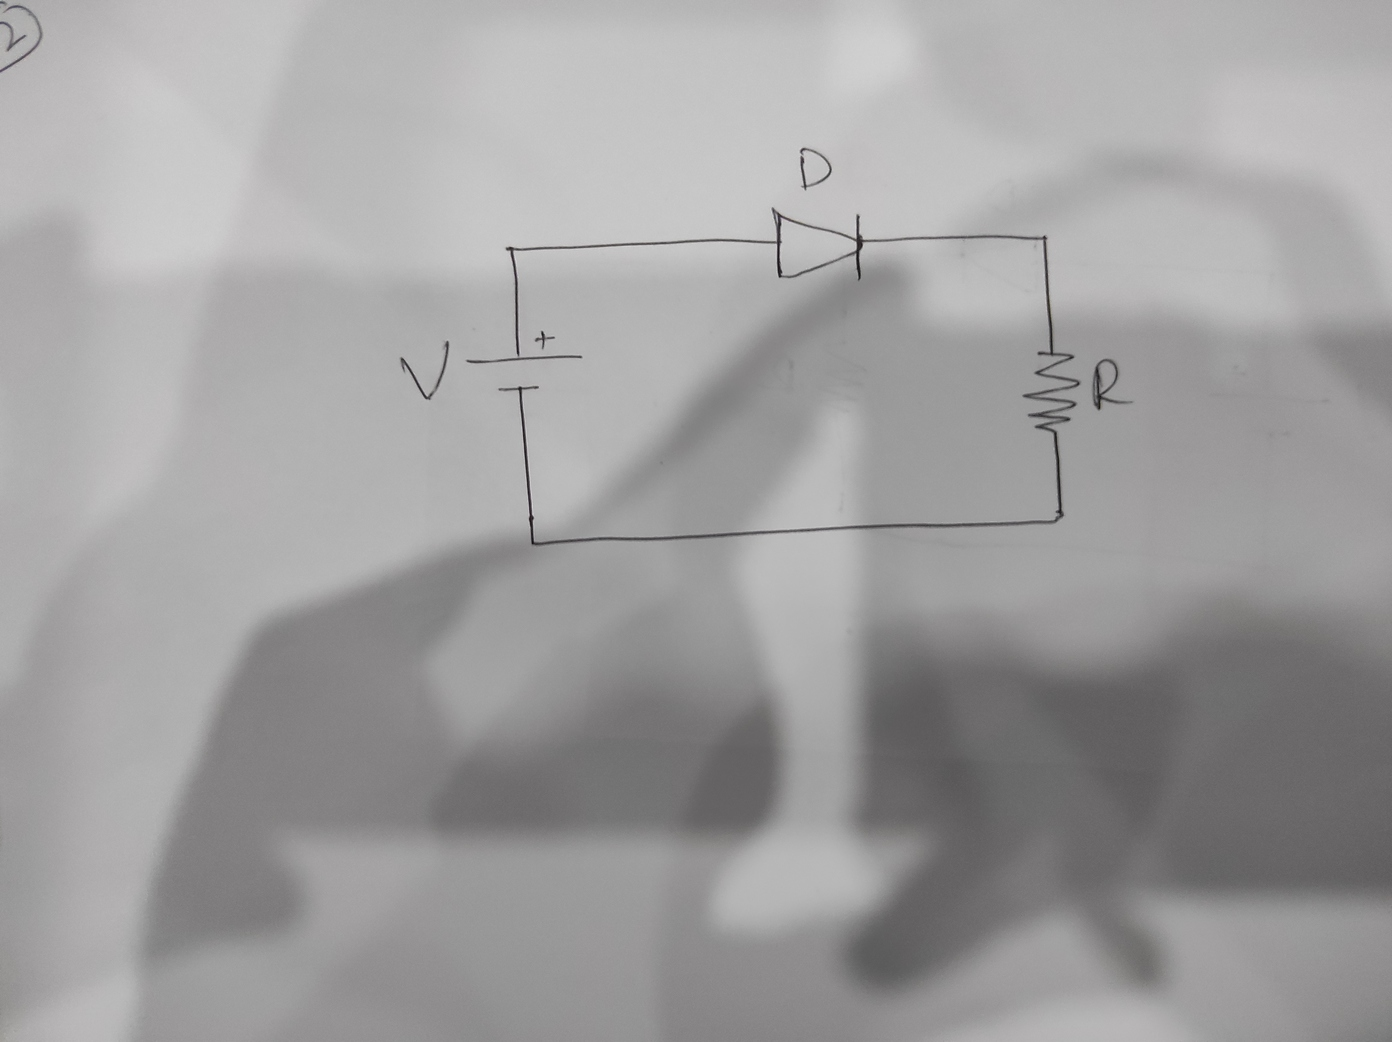diode: (768, 204, 868, 283)
junction: (1031, 227, 1055, 251), (1046, 506, 1070, 529), (524, 532, 545, 553), (501, 240, 522, 260)
resistor: (1019, 345, 1084, 435)
text: (1088, 356, 1136, 413), (401, 344, 448, 400), (797, 143, 833, 193)
voltage.dc: (463, 328, 585, 396)
